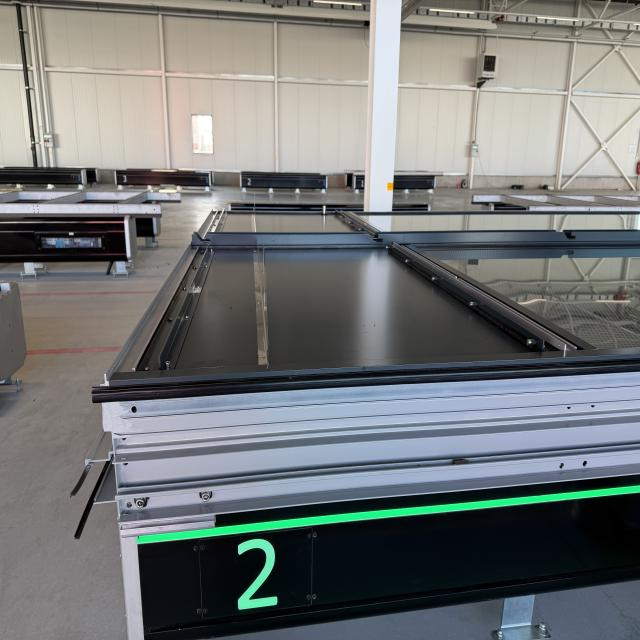lim_nedostaje: (389, 210, 640, 251), (196, 213, 380, 249), (249, 246, 271, 382)
